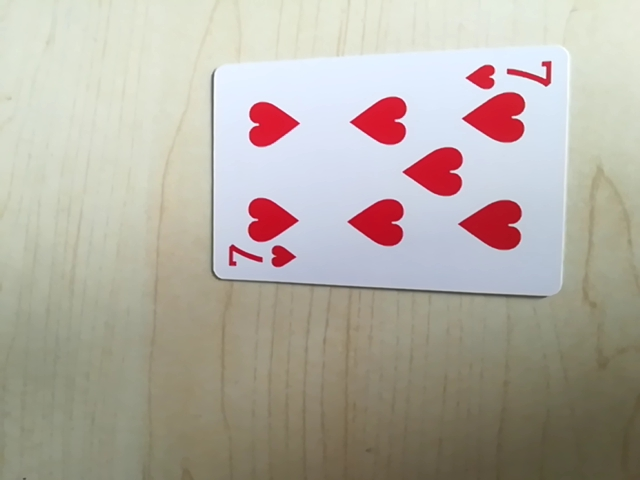hx 7: (462, 53, 555, 92), (221, 242, 300, 277)
